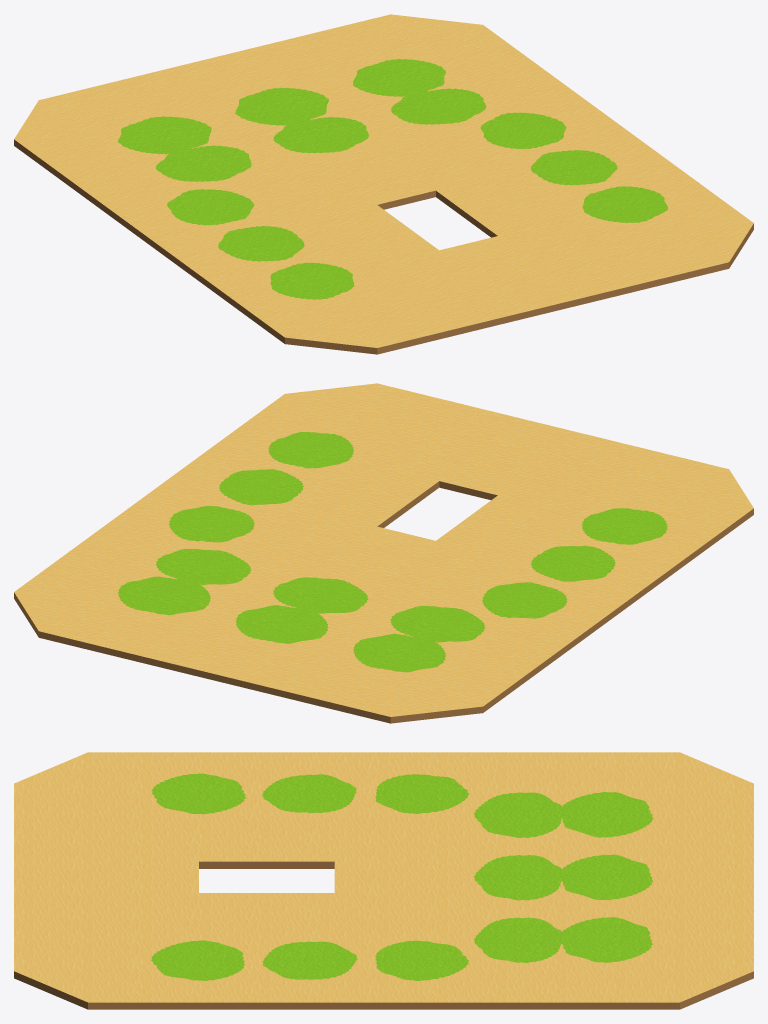
File: surface-08-CS9EIgcY.glb
The picture shows the model from 3 angles, top to bottom: view 1: azimuth 30°, elevation 25°; view 2: azimuth 150°, elevation 25°; view 3: azimuth 270°, elevation 25°; orthographic projection. The views are drawn at different scales.
Visible parts, largest first — view 1: FLC_Surface_08, FLC_Regions_08; view 2: FLC_Surface_08, FLC_Regions_08; view 3: FLC_Surface_08, FLC_Regions_08.
Part boxes in pixels (x1,y1,x2,y2): FLC_Surface_08: (14,14,753,354); FLC_Regions_08: (118,59,667,299); FLC_Surface_08: (14,383,753,723); FLC_Regions_08: (118,432,667,672); FLC_Surface_08: (14,752,753,1009); FLC_Regions_08: (151,773,653,980).
Bounding box in the file's own units: 24 × 0.324 × 30.
Materials: 3 (2 with a texture image).
